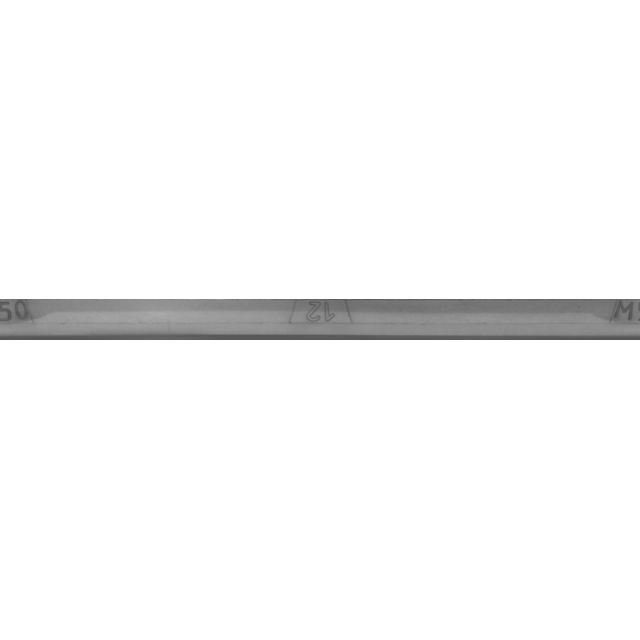mohao: (536, 270, 640, 370)
xuehao: (219, 270, 419, 370)
